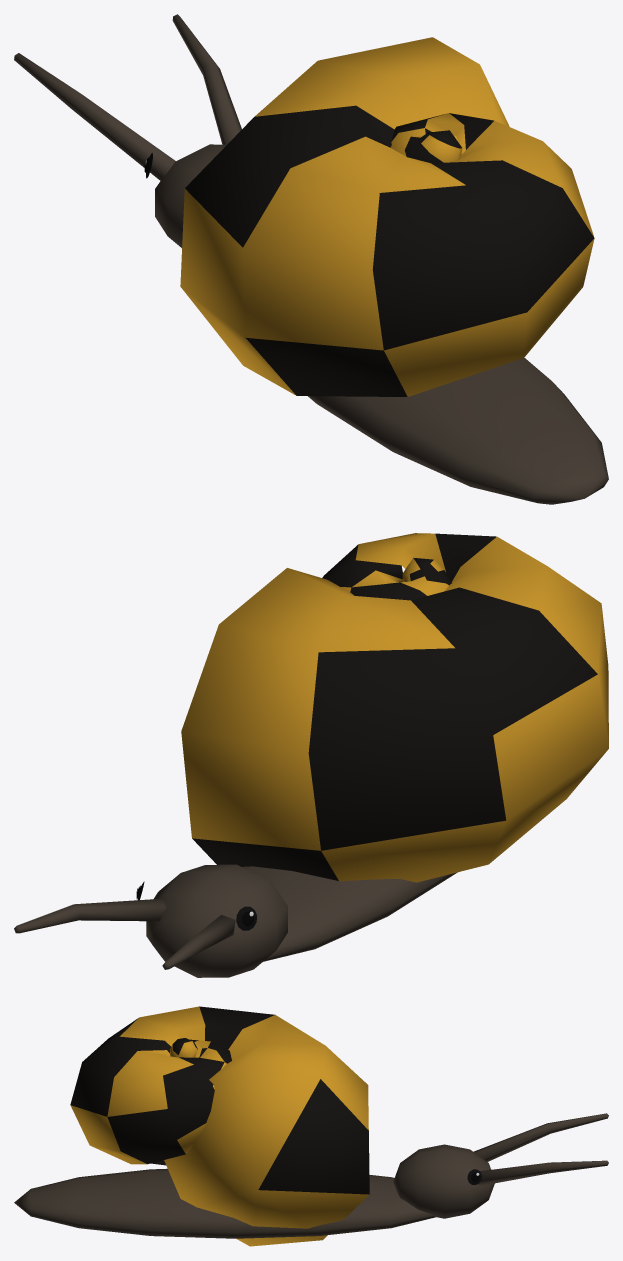
File: nerite.glb
The picture shows the model from 3 angles, top to bottom: view 1: azimuth 30°, elevation 25°; view 2: azimuth 150°, elevation 25°; view 3: azimuth 270°, elevation 25°; orthographic projection. The views are drawn at different scales.
Parts seen in each view (by area): view 1: nerite; view 2: nerite; view 3: nerite.
Part boxes in pixels (left/top/right/bottom): nerite: left=14, top=14, right=608, bottom=504; nerite: left=14, top=533, right=608, bottom=977; nerite: left=14, top=1006, right=608, bottom=1246.
Bounding box in the file's own units: 1.11 × 0.9196 × 2.56.
